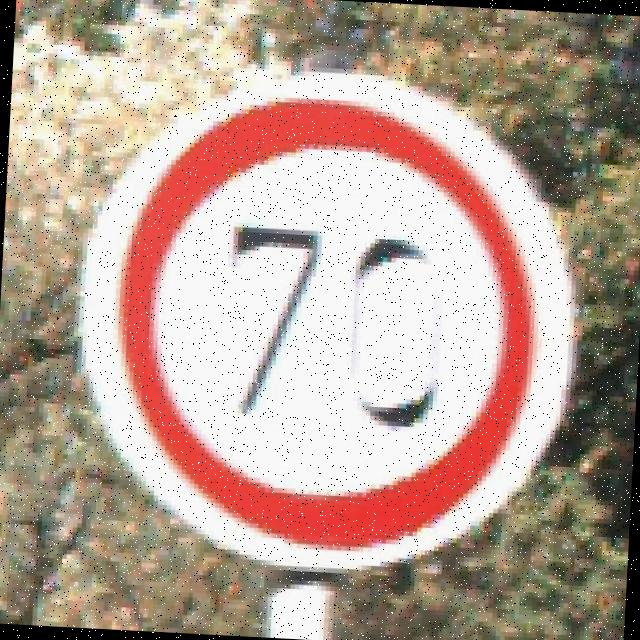Ograniczenie predkosci do 70: (112, 93, 533, 560)
